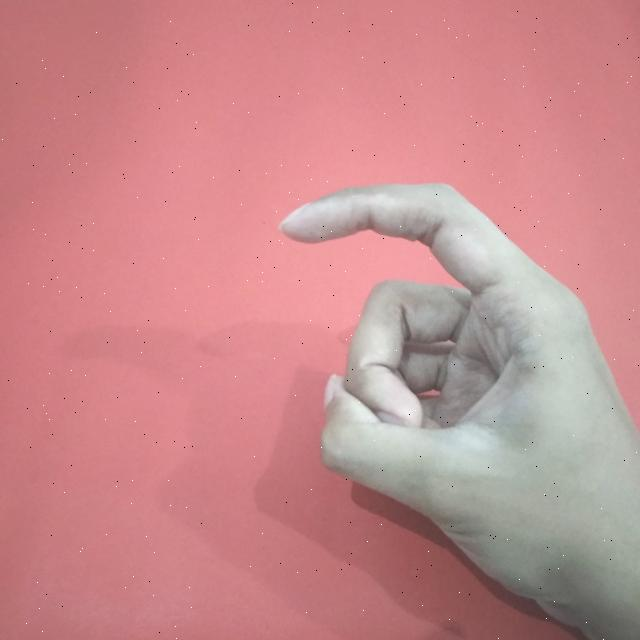X: (273, 174, 640, 640)
